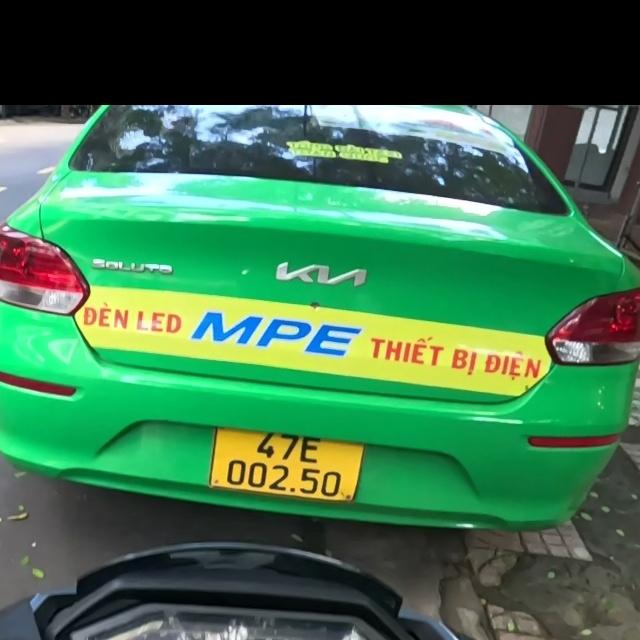license-plate: (208, 427, 366, 507)
